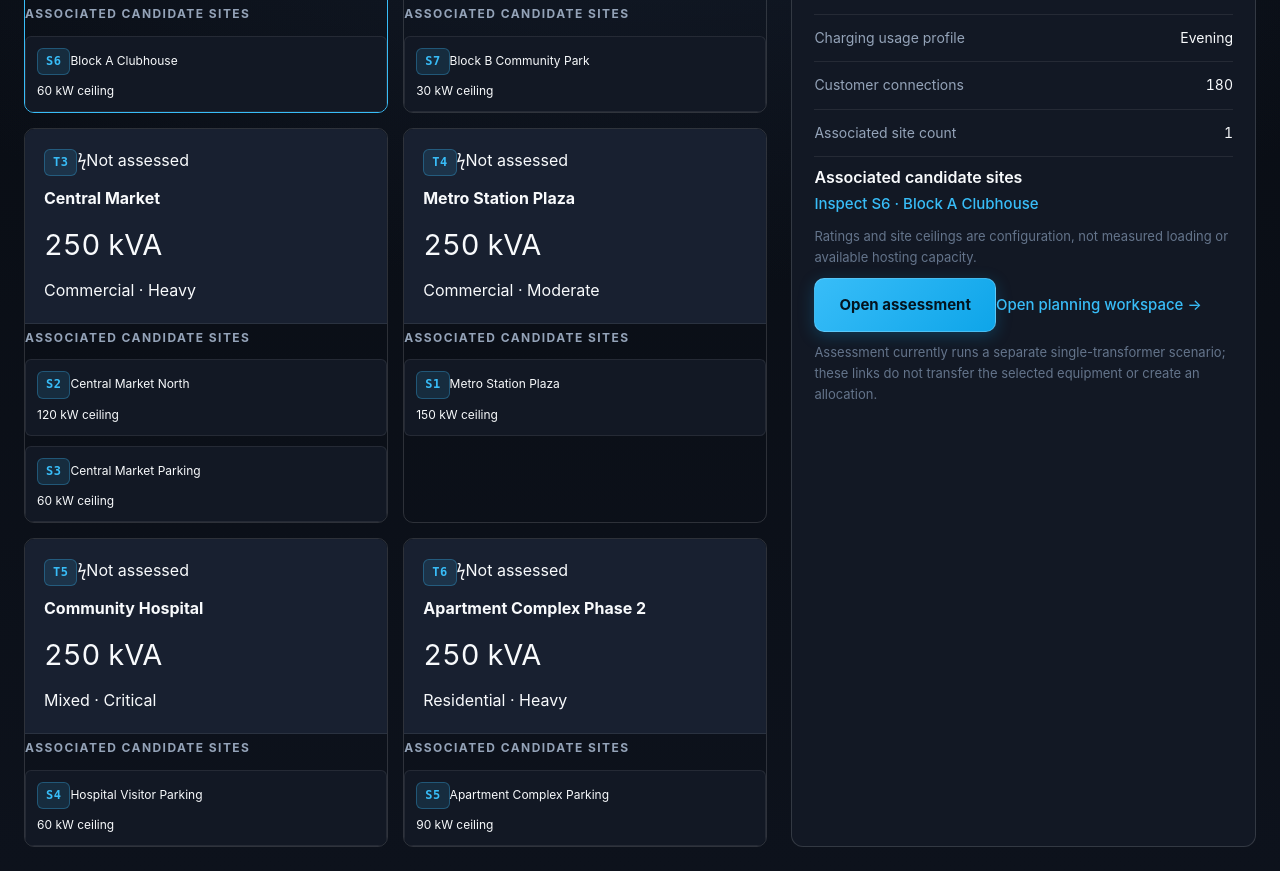
API-backed network explorer › shows site ceiling, footfall and the real associated transformer
(page scrolled)
What coordinates should you click on to do the following:
click the button "S4 Hospital Visitor Parking 60 kW ceiling"
I would click on:
 (54, 795)
Its box is [25,770,387,846].
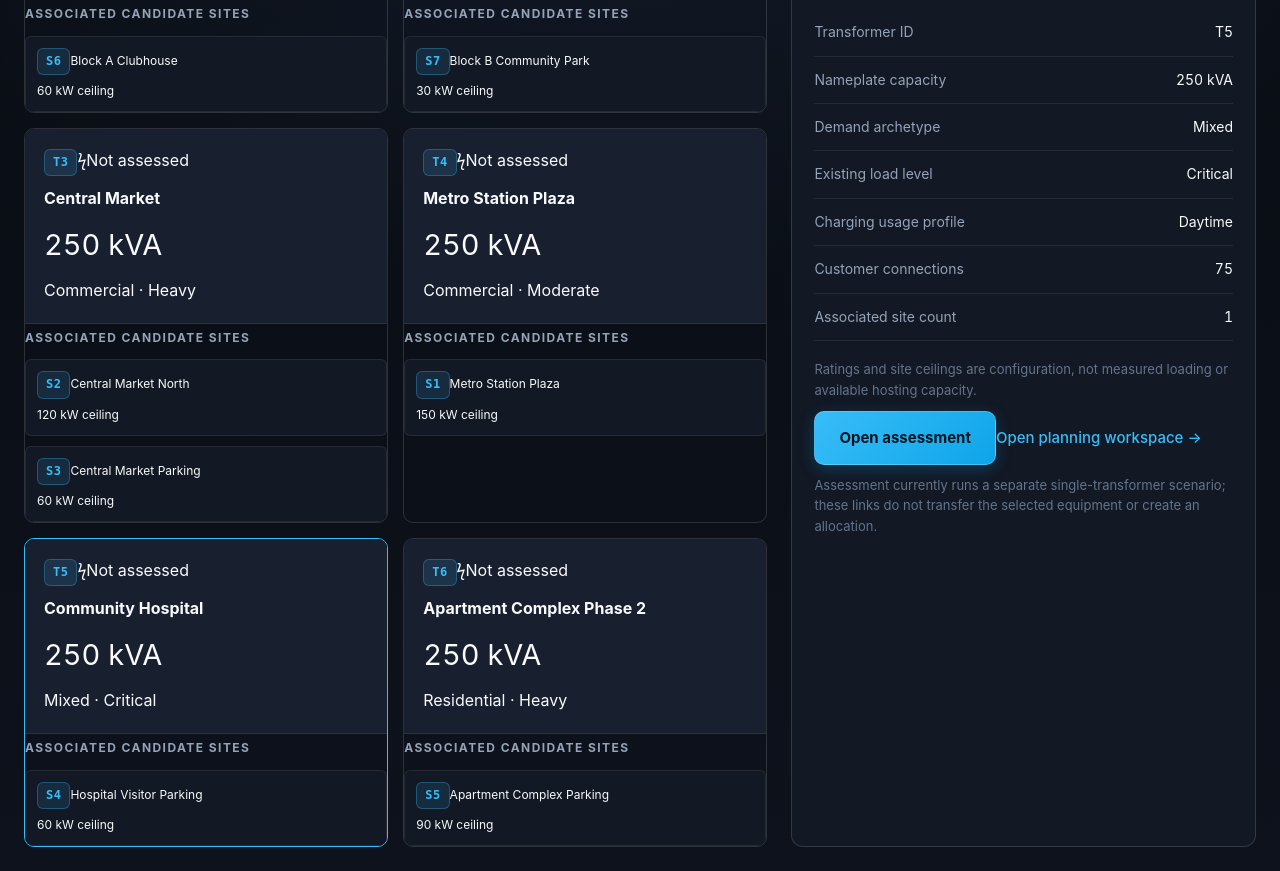
Expected: the text "T5" is shown 2 times
